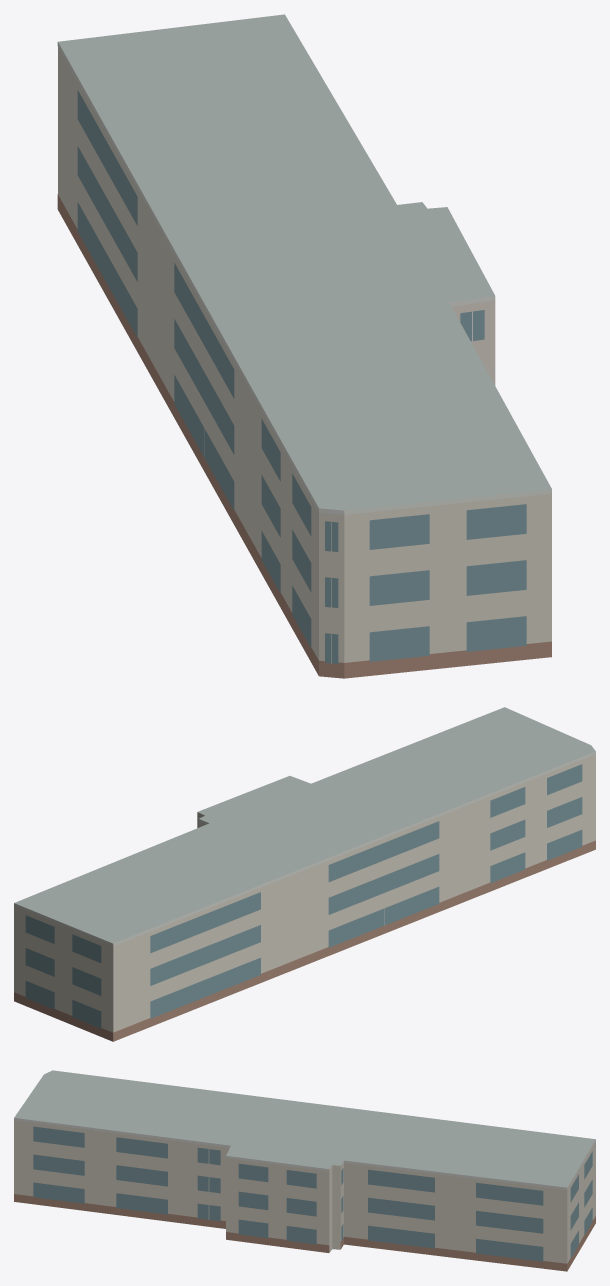
File: survey-upis-32679833.glb
The picture shows the model from 3 angles, top to bottom: view 1: azimuth 30°, elevation 25°; view 2: azimuth 150°, elevation 25°; view 3: azimuth 270°, elevation 25°; orthographic projection. The views are drawn at different scales.
Parts seen in each view (by area): view 1: survey-upis-32679833.tmp; view 2: survey-upis-32679833.tmp; view 3: survey-upis-32679833.tmp.
Boxes of the visible parts, box(x1,y1,x2,y2) form: survey-upis-32679833.tmp: box(57, 14, 551, 678); survey-upis-32679833.tmp: box(14, 707, 595, 1041); survey-upis-32679833.tmp: box(14, 1070, 595, 1271).
Size of the model in its own units: 27.4 by 9.15 by 57.46.
